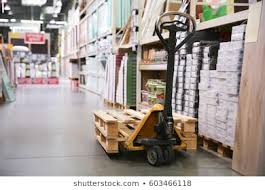Pallet Jack: (93, 10, 199, 167)
